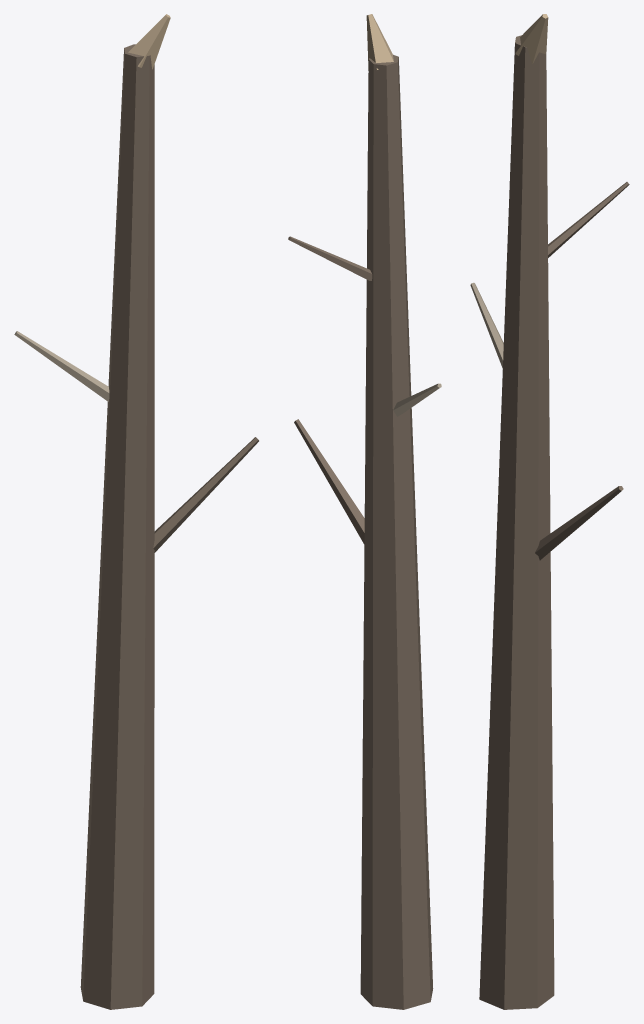
File: dead_tree_01.glb
3 views of the same model, side by side, from view 1: azimuth 30°, elevation 25°; view 2: azimuth 150°, elevation 25°; view 3: azimuth 330°, elevation 25° (orthographic). The views are drawn at different scales.
Parts seen in each view (by area): view 1: dead_tree_01_trunk, dead_tree_01_branch_1, dead_tree_01_branch_2, dead_tree_01_broken_tip; view 2: dead_tree_01_trunk, dead_tree_01_branch_1, dead_tree_01_broken_tip, dead_tree_01_branch_3, dead_tree_01_branch_2; view 3: dead_tree_01_trunk, dead_tree_01_branch_1, dead_tree_01_broken_tip, dead_tree_01_branch_3, dead_tree_01_branch_2.
Boxes of the visible parts, box(x1,y1,x2,y2) form: dead_tree_01_trunk: box(80, 44, 154, 1009); dead_tree_01_branch_1: box(153, 437, 258, 552); dead_tree_01_branch_2: box(14, 331, 109, 401); dead_tree_01_broken_tip: box(128, 14, 170, 69); dead_tree_01_trunk: box(360, 54, 433, 1009); dead_tree_01_branch_1: box(294, 419, 364, 543); dead_tree_01_broken_tip: box(366, 14, 393, 70); dead_tree_01_branch_3: box(288, 236, 372, 280); dead_tree_01_branch_2: box(393, 383, 441, 416); dead_tree_01_trunk: box(479, 35, 554, 1009); dead_tree_01_branch_1: box(535, 486, 623, 560); dead_tree_01_broken_tip: box(515, 14, 548, 63); dead_tree_01_branch_3: box(548, 182, 629, 257); dead_tree_01_branch_2: box(470, 282, 503, 368).
Size of the model in its own units: 1.07 by 5.09 by 0.5889.
